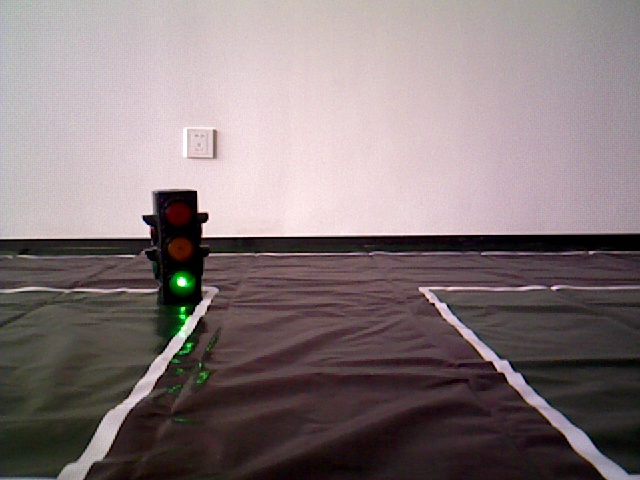green: (152, 195, 202, 297)
